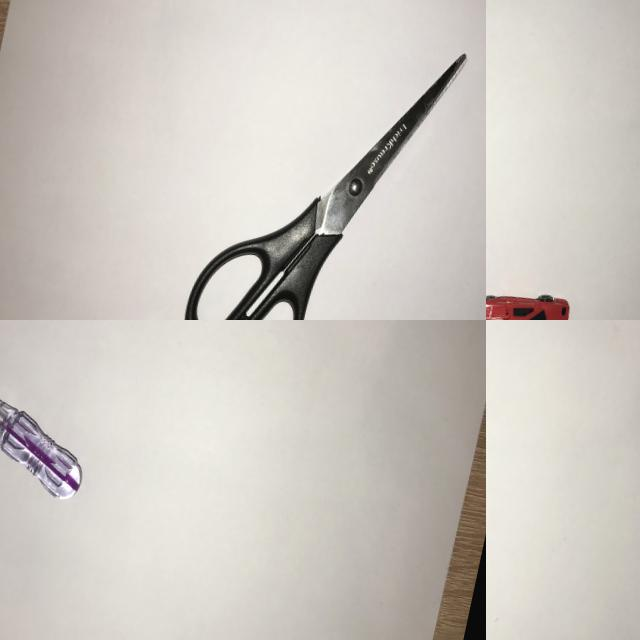car: (486, 275, 580, 320)
scissors: (163, 0, 473, 320)
screwdriver: (0, 352, 105, 507)
